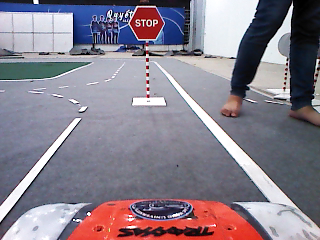stop: (127, 5, 166, 41)
